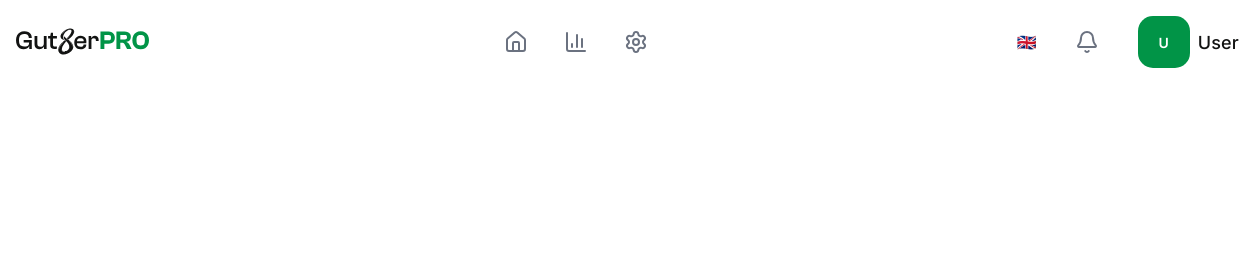
Test: TopNavBar › opens notifications dropdown when bell is clicked
Click the button named "Notifications" at (1087, 42), box [1062,17,1112,67]
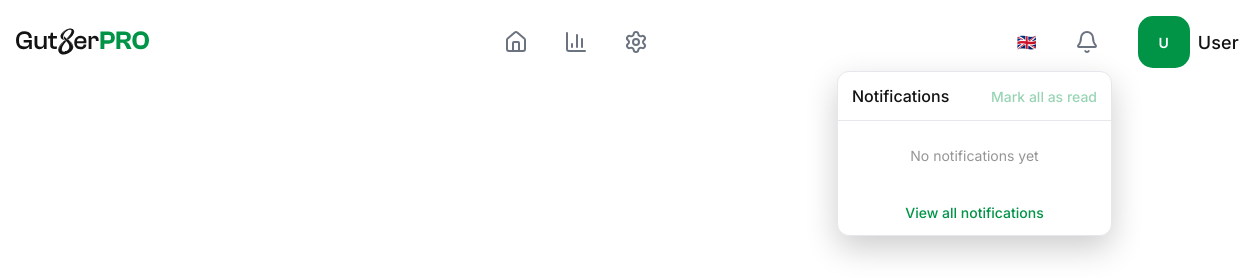
Result: the text "Notifications" is shown at [852,84,949,108]
